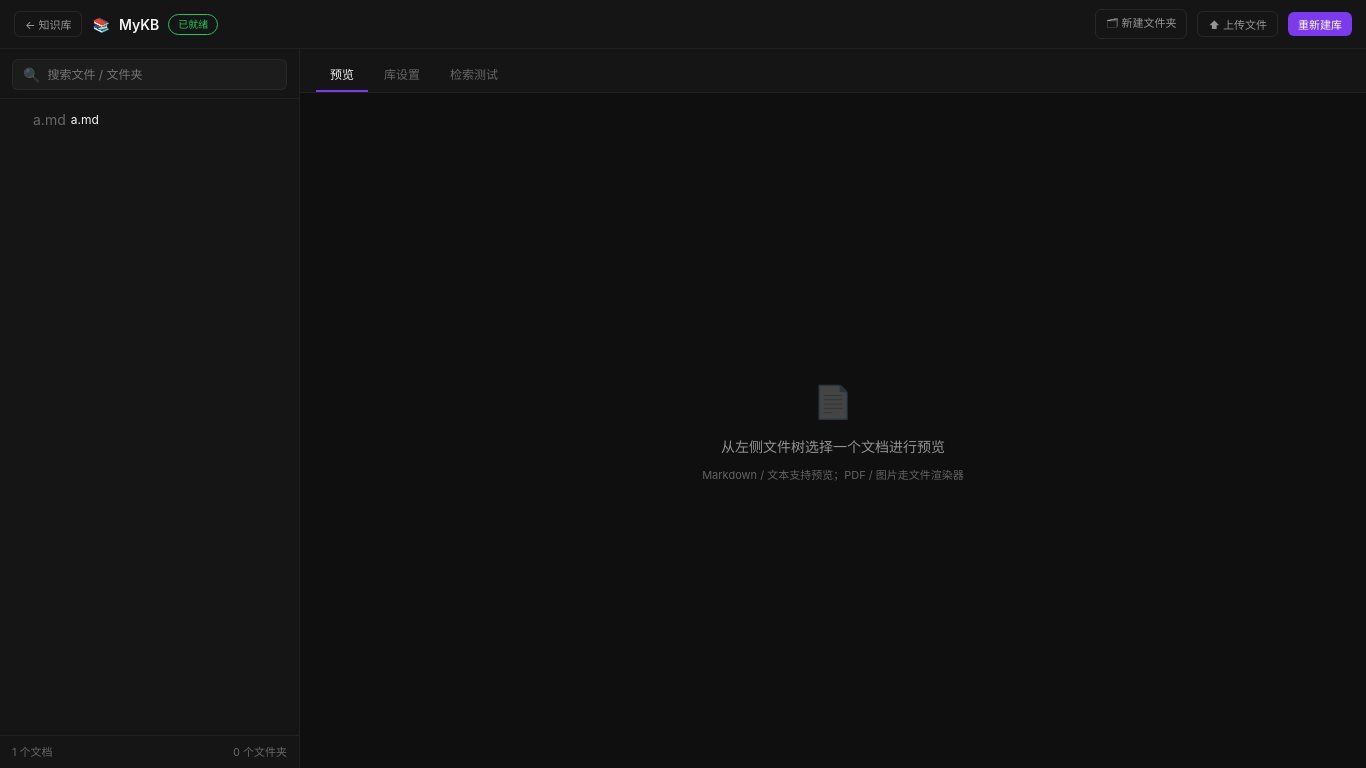
Test: KnowledgeBaseEditorPage · 菜单动作 → IPC（inv-27） › 用例53 点击文件行 → selectedPath 写入、rightTab=preview、预览区进入非空态
What coordinates should you click on to do the following:
click the element with test id "kb-node-a.md"
I would click on:
 (66, 120)
Its box is top-left (33, 111), bottom-right (99, 128).
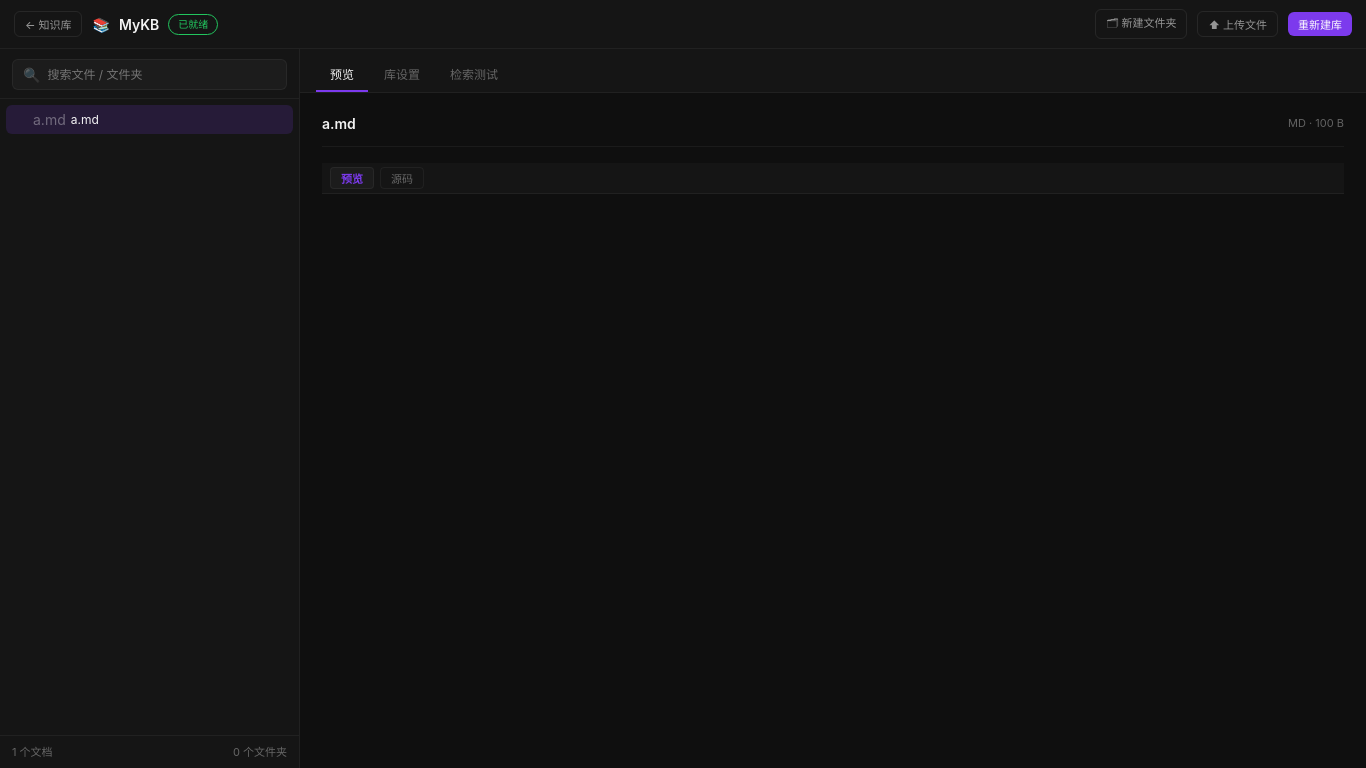
Check: the 1st text "a.md" is shown, box top-left (33, 109), bottom-right (66, 130)
Check: the text "从左侧文件树选择一个文档进行预览" is gone
